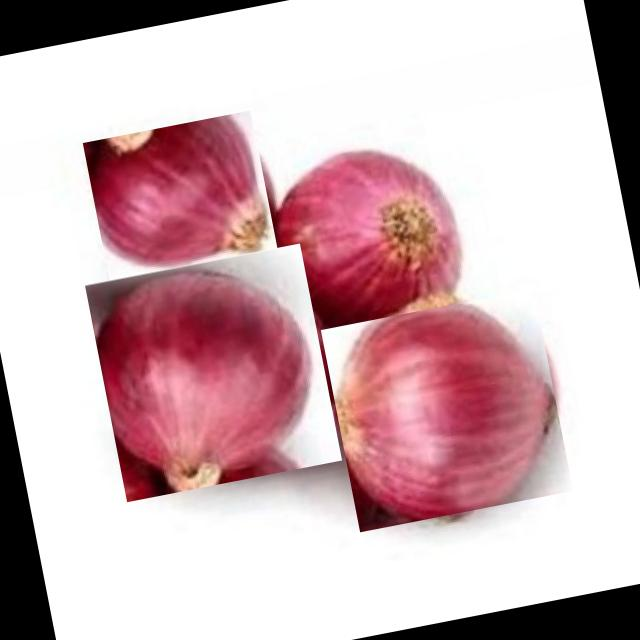Onion: (84, 243, 343, 502), (323, 286, 571, 534), (263, 125, 480, 342), (83, 110, 279, 288)
